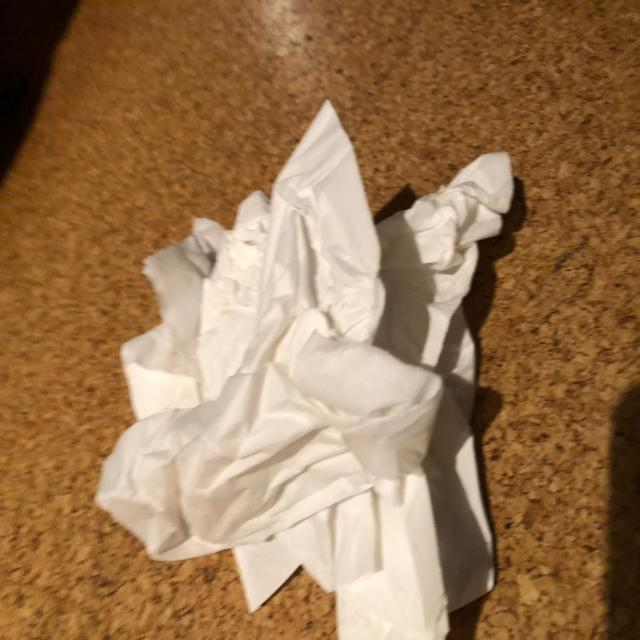kitchen paper: (90, 99, 440, 565), (231, 148, 516, 634)
